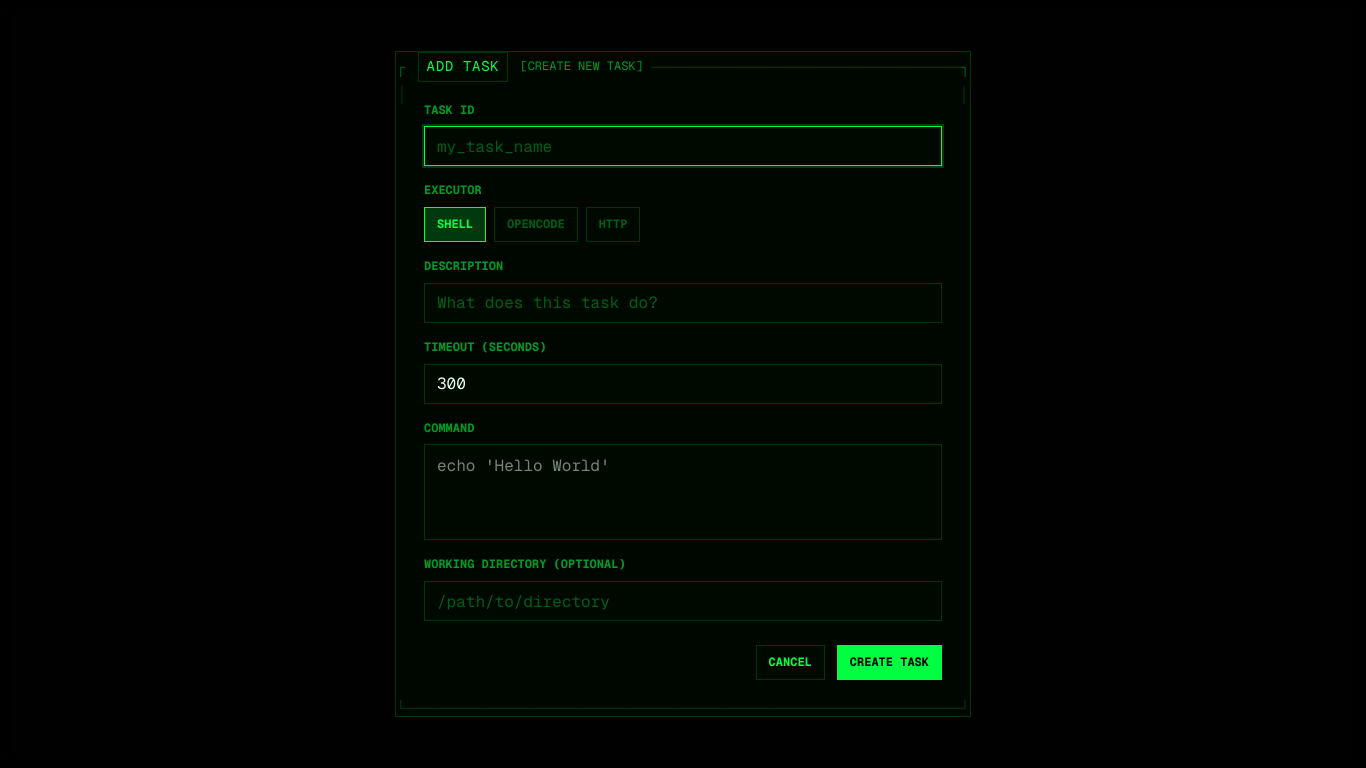
AddTaskModal › switches to http showing url/method/headers/body fields
This screenshot has width=1366, height=768.
What coordinates should you click on to do the following:
click the button "http"
I would click on:
 (613, 225)
Its box is [586,207,640,242].
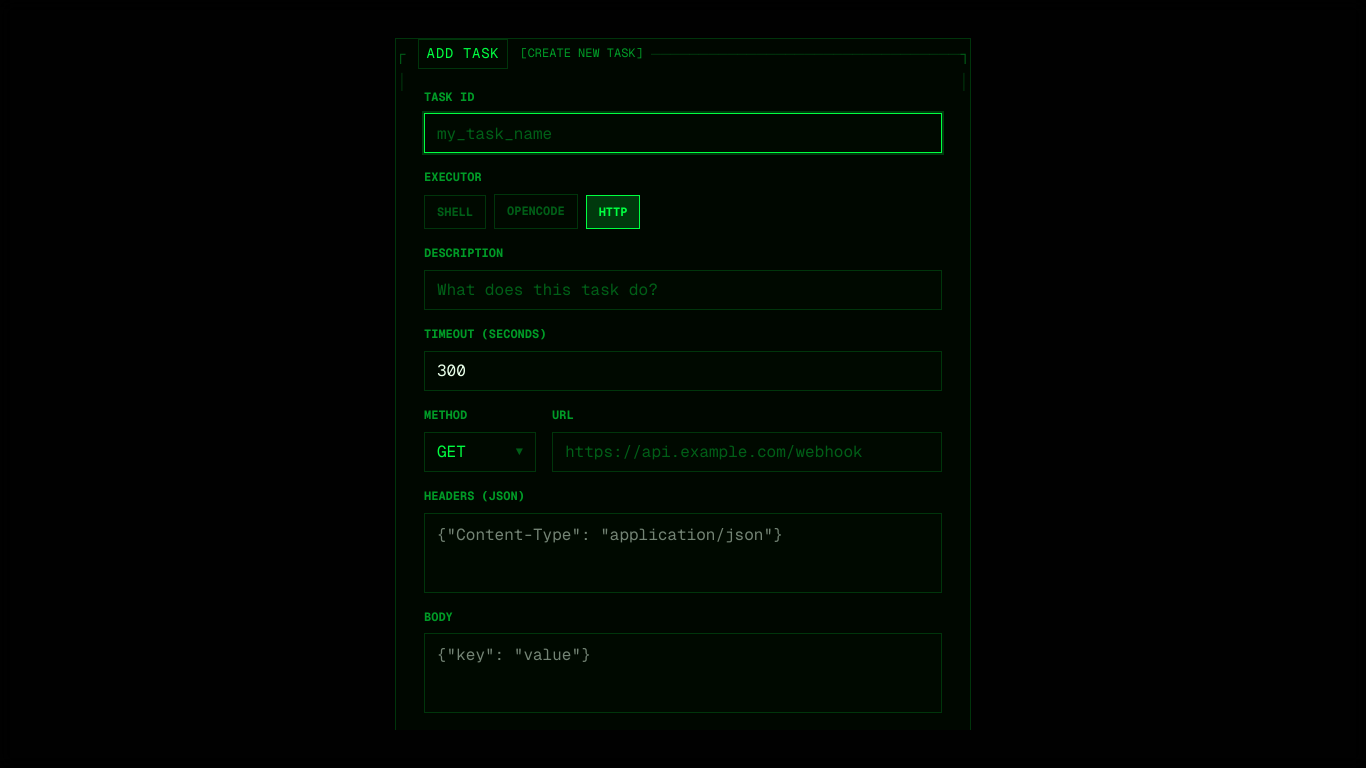
Now the text "Method" is shown, box [424,407,467,423]
Now the text "URL" is shown, box [552,407,574,423]
Now the text "Headers (JSON)" is shown, box [424,488,525,504]
